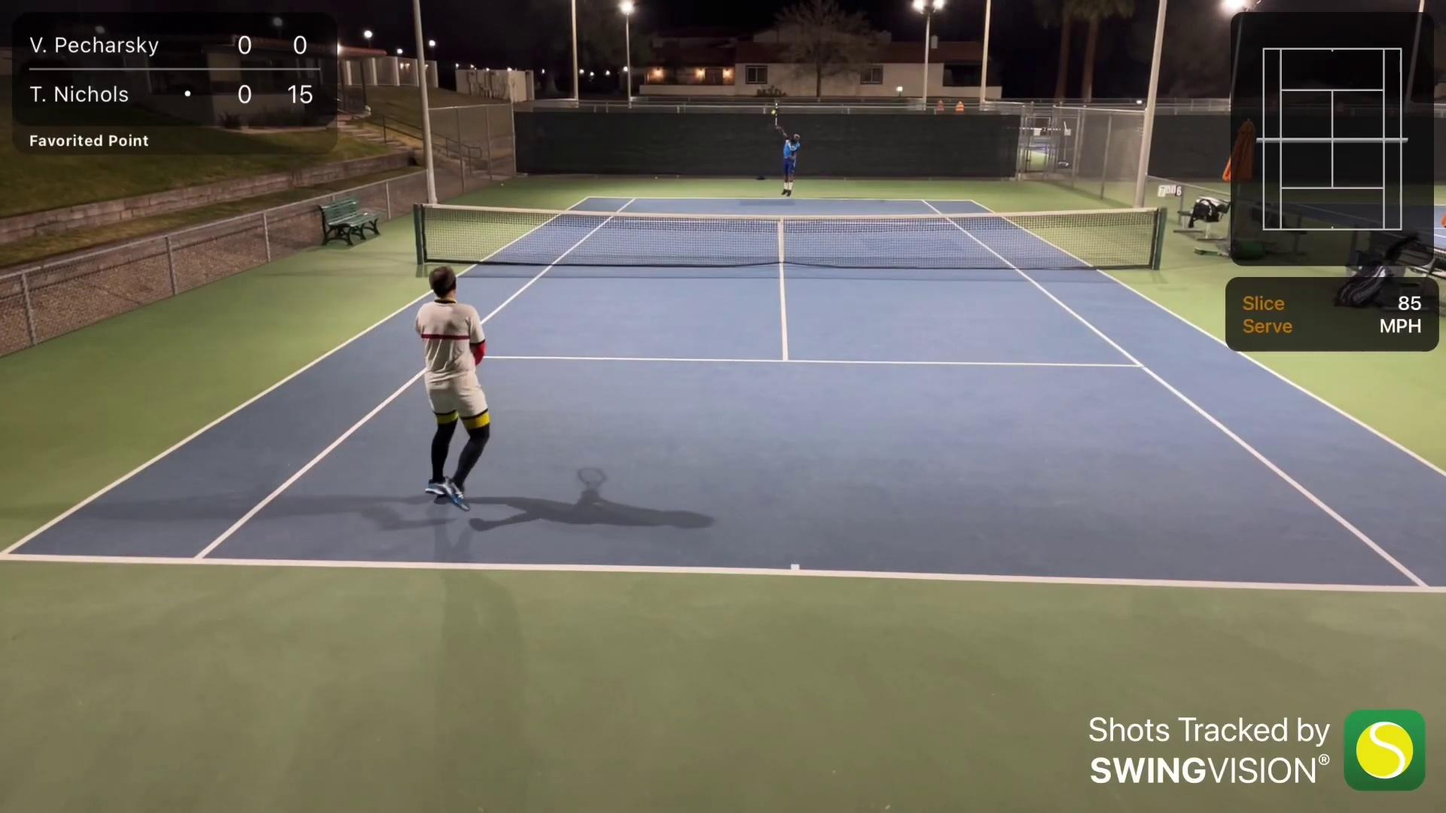ball: (768, 110, 776, 117)
